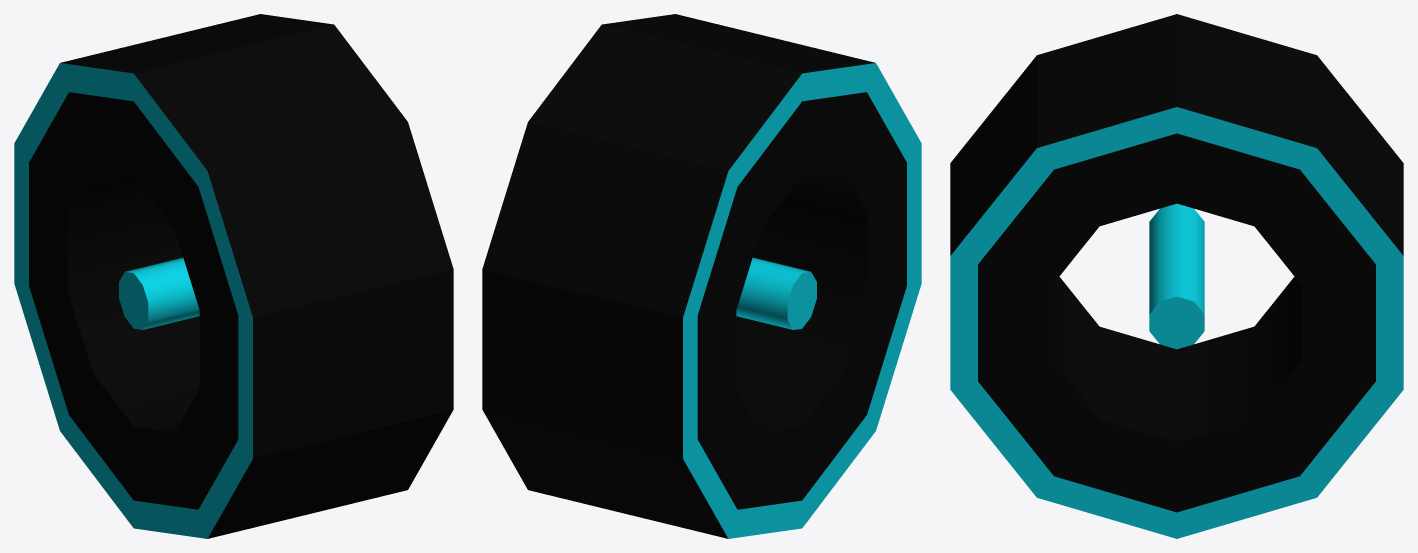
Rendered from future_bike_wheel.FBX.
3 renders of one model, left to right at view 1: azimuth 30°, elevation 25°; view 2: azimuth 150°, elevation 25°; view 3: azimuth 270°, elevation 25°, orthographic. The views are drawn at different scales.
Parts seen in each view (by area): view 1: bike_tire_002; view 2: bike_tire_002; view 3: bike_tire_002.
Boxes of the visible parts, x1,y1,x2,y2 form: bike_tire_002: (14,14,453,538); bike_tire_002: (482,14,921,538); bike_tire_002: (950,14,1403,538).
Bounding box in the file's own units: 8.97 × 18.5 × 19.45.
